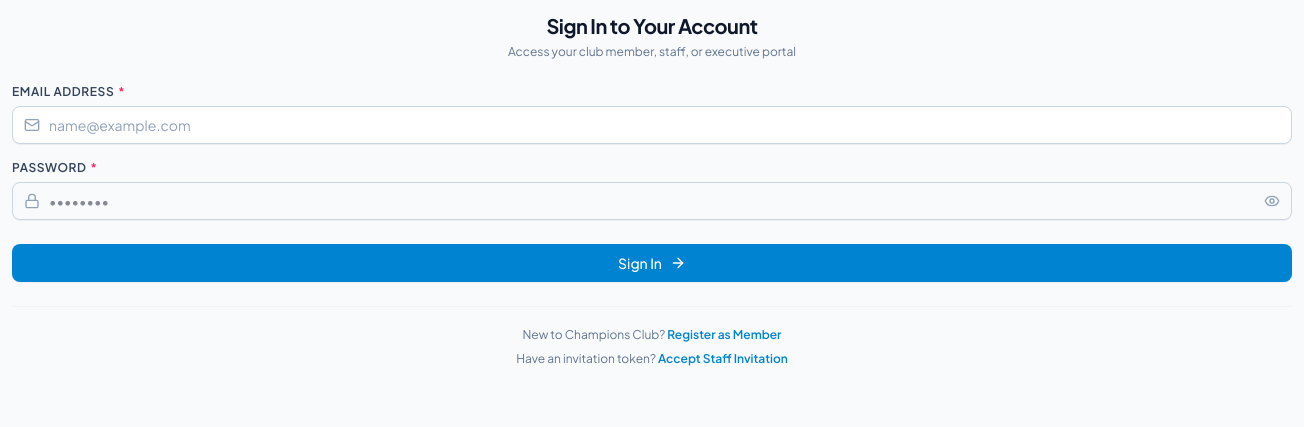
it: LoginPage Component › validates empty email and password submission
Click the button "Sign In" at (652, 263), box [12,244,1292,282]
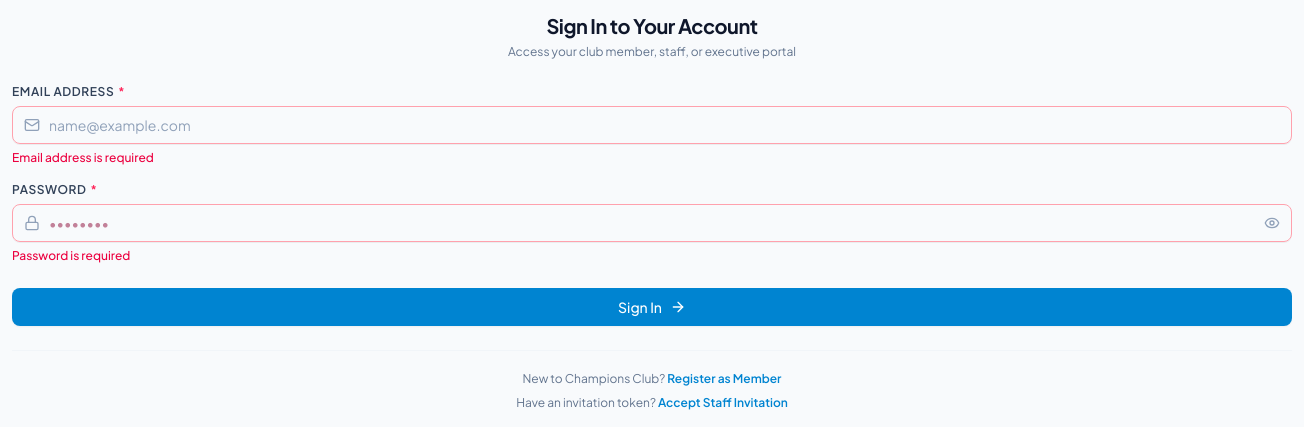
Result: the text "Email address is required" is shown at [12,150,154,165]
Result: the text "Password is required" is shown at [12,248,130,263]
